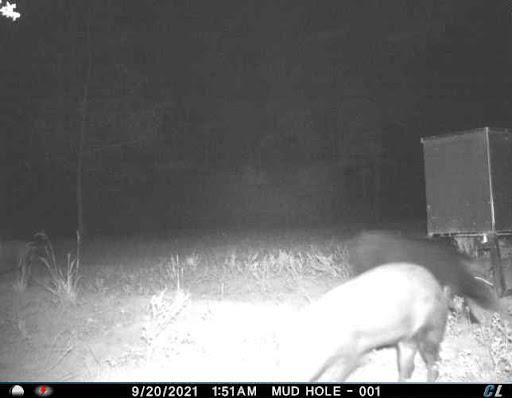Hog: (290, 257, 453, 384), (339, 229, 502, 335)
